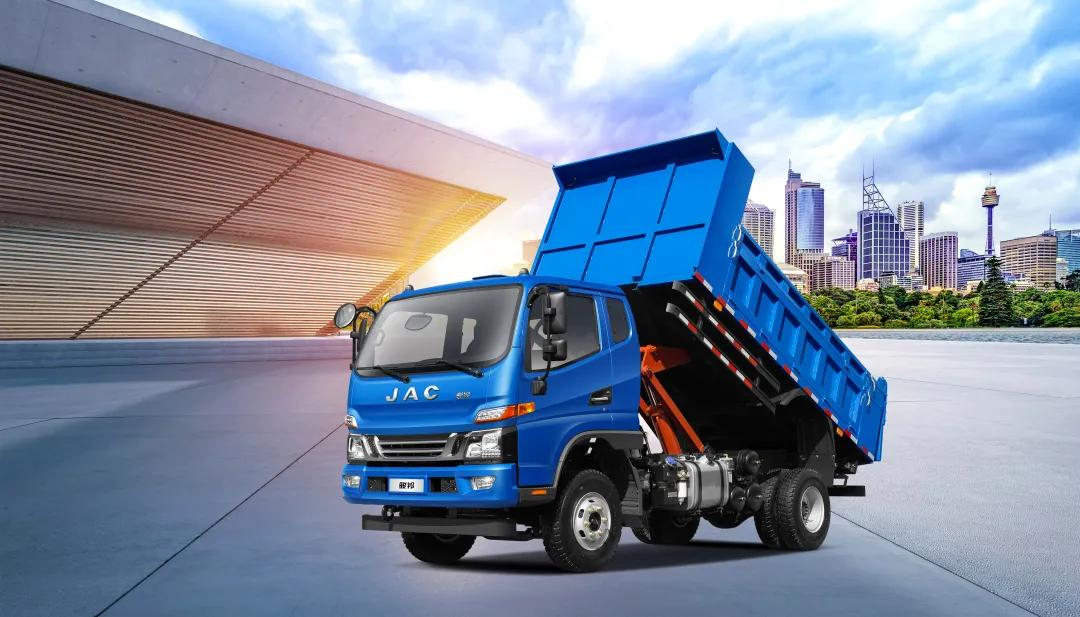truck: (336, 118, 895, 578)
